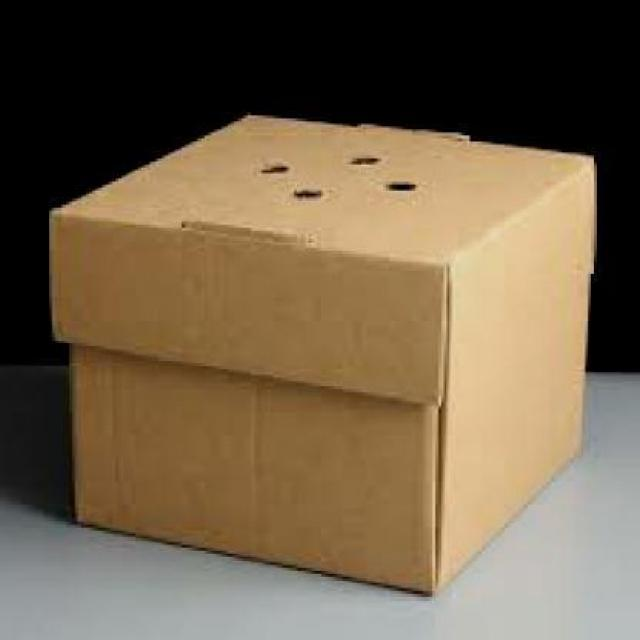-: (45, 114, 600, 599)
